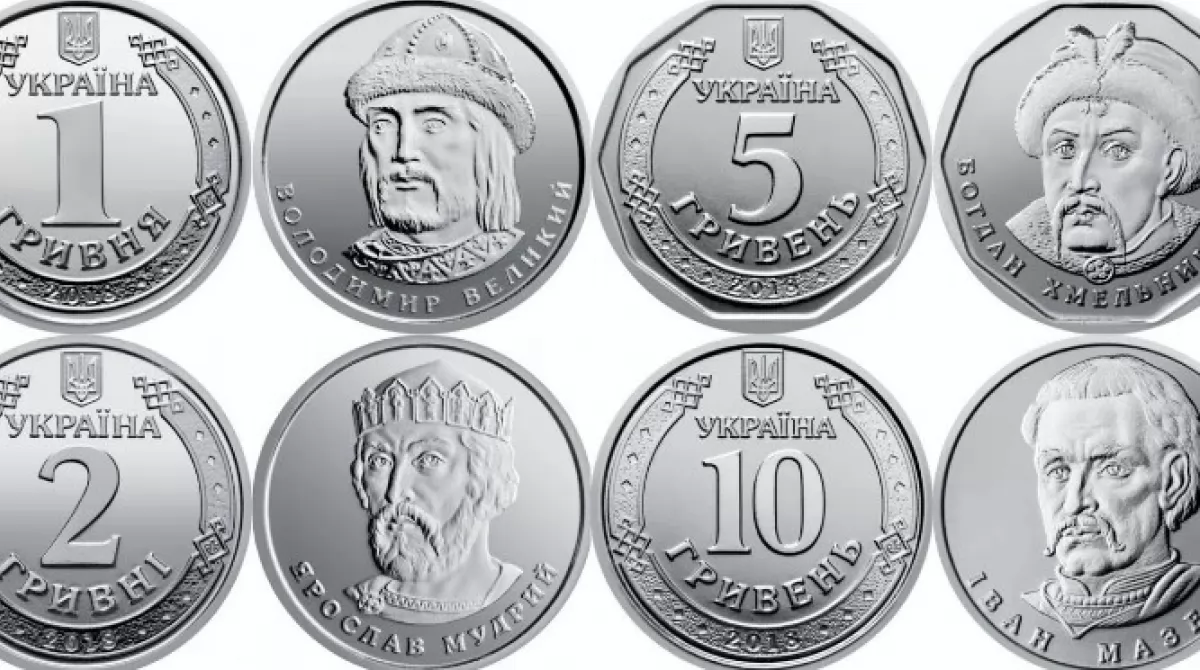coin_10_bn: (590, 335, 929, 670), (935, 335, 1200, 670)
coin_1_bn: (255, 0, 585, 334), (0, 0, 250, 334)
coin_2_bn: (252, 335, 590, 670), (0, 335, 250, 670)
coin_5_bn: (595, 0, 933, 334), (938, 2, 1200, 335)
